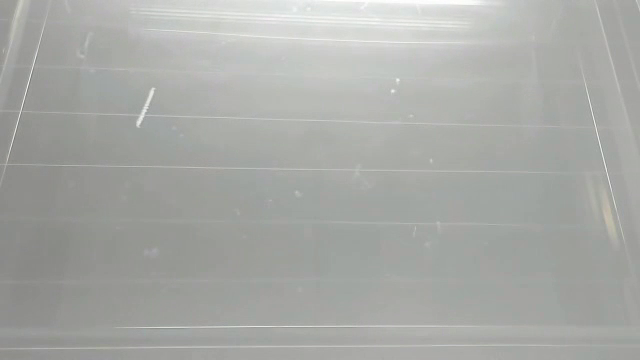alpha: (134, 87, 157, 128)
